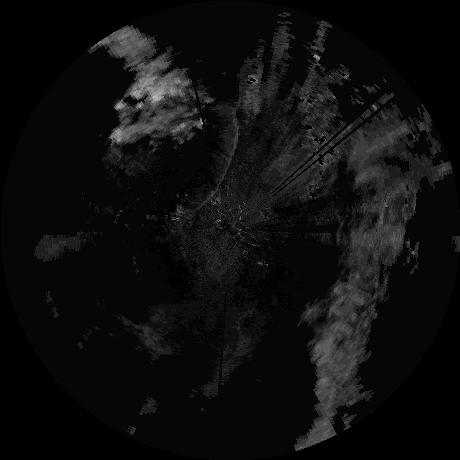frontgust: (186, 109, 240, 210)
